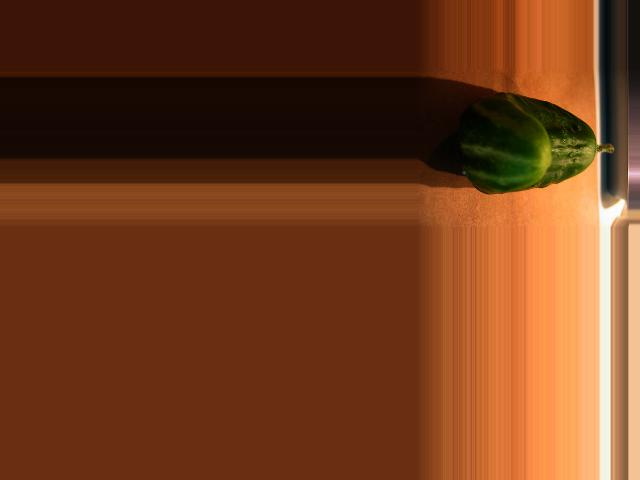cucumber: (458, 93, 614, 195)
